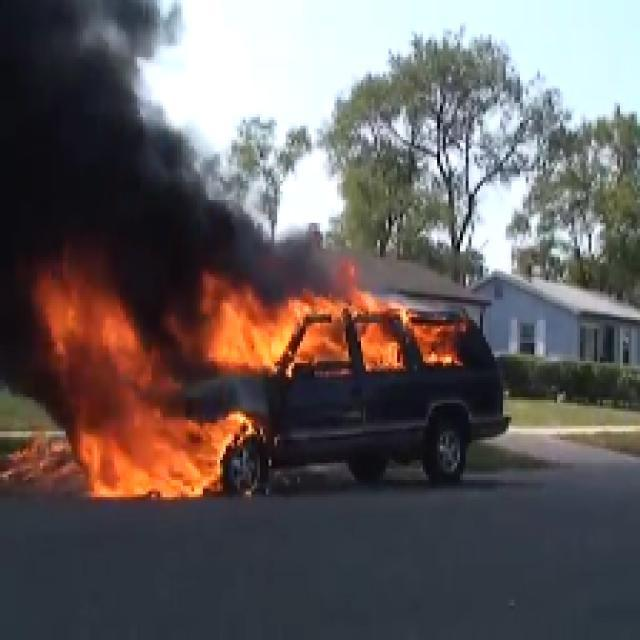Fire: (46, 296, 148, 497), (212, 296, 456, 369), (154, 418, 232, 486)
Smoke: (7, 12, 162, 276)
